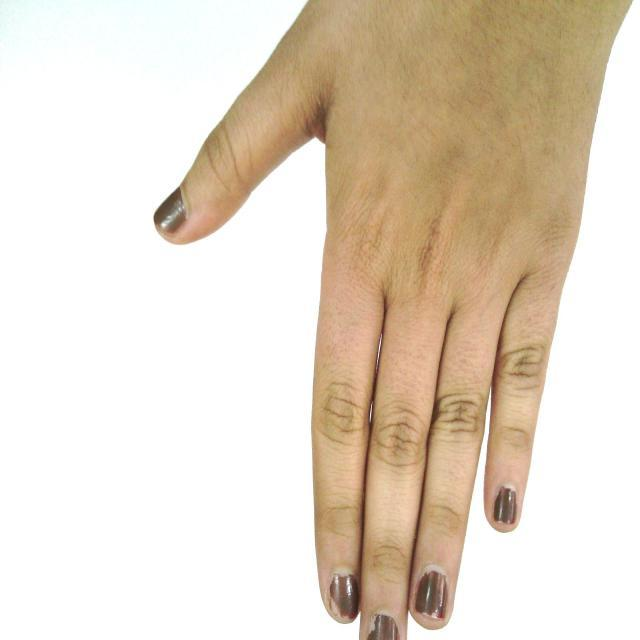Fingernail: (416, 569, 447, 618), (331, 572, 358, 622), (155, 191, 184, 232), (494, 487, 517, 524)
